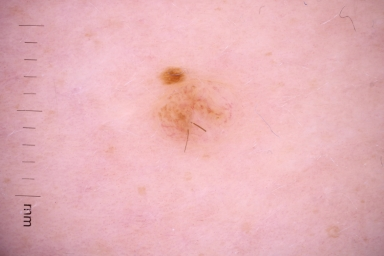nevus: (157, 65, 237, 138)
